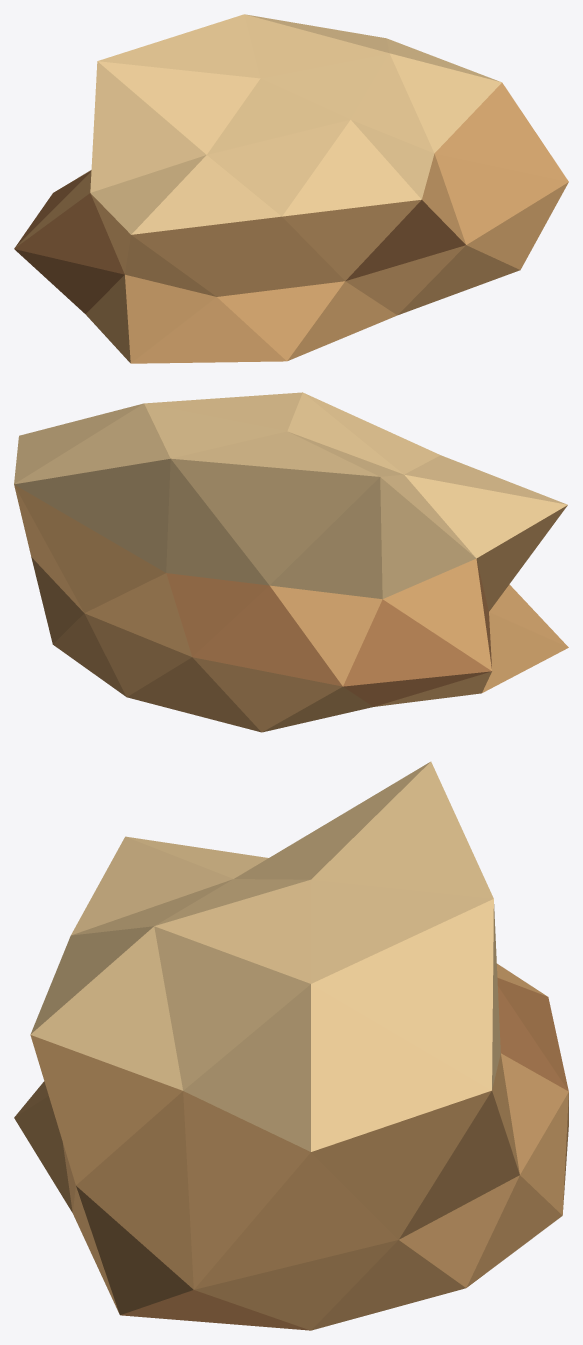
Rendered from DesertRock1.fbx.
3 views of the same model, one above another, from view 1: azimuth 30°, elevation 25°; view 2: azimuth 150°, elevation 25°; view 3: azimuth 270°, elevation 25° (orthographic). The views are drawn at different scales.
Visible parts, largest first — view 1: DesertRock1; view 2: DesertRock1; view 3: DesertRock1.
Boxes of the visible parts, x1=… form: DesertRock1: x1=14, y1=14, x2=568, y2=363; DesertRock1: x1=14, y1=392, x2=568, y2=732; DesertRock1: x1=14, y1=761, x2=568, y2=1330.
Size of the model in its own units: 5.41 by 2.26 by 3.56.
1 material, 1 textured.
